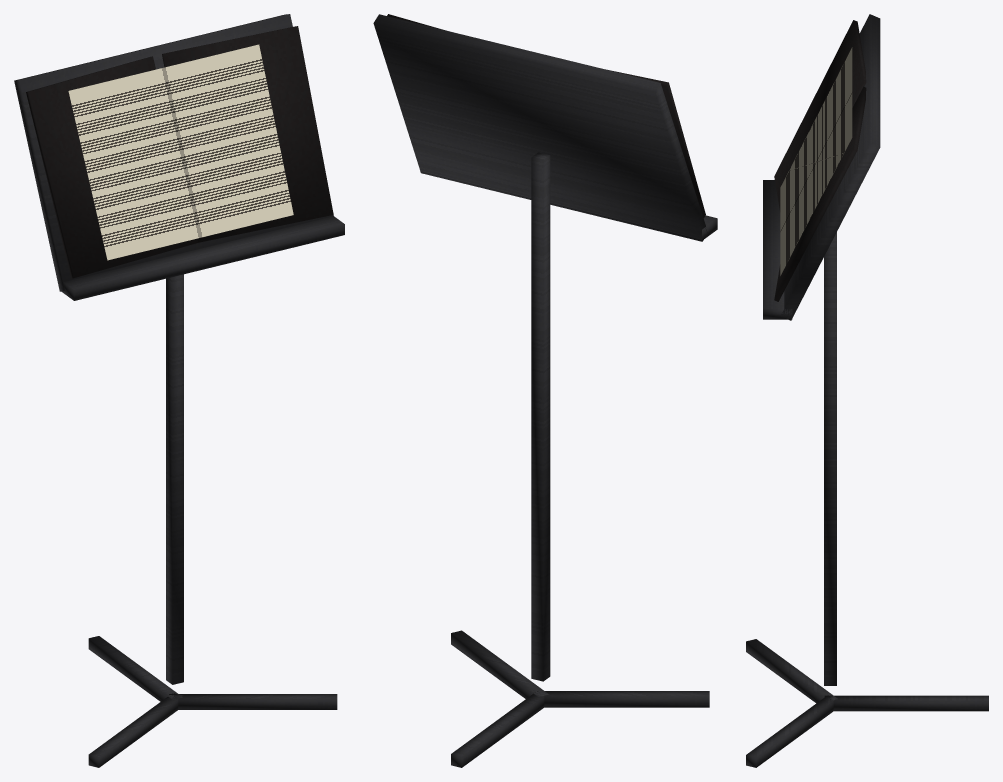
File: music_stand_1.glb
The picture shows the model from 3 angles, left to right: view 1: azimuth 30°, elevation 25°; view 2: azimuth 150°, elevation 25°; view 3: azimuth 270°, elevation 25°; orthographic projection. The views are drawn at different scales.
Visible parts, largest first — view 1: music_stand_1, music_stand_1_music; view 2: music_stand_1; view 3: music_stand_1, music_stand_1_music.
Part boxes in pixels (x1=…): music_stand_1: x1=14, y1=14, x2=344, y2=767; music_stand_1_music: x1=68, y1=44, x2=293, y2=260; music_stand_1: x1=373, y1=14, x2=717, y2=767; music_stand_1: x1=746, y1=14, x2=988, y2=767; music_stand_1_music: x1=780, y1=47, x2=852, y2=275.
Bounding box in the file's own units: 0.52 × 1.19 × 0.4137.
3 materials, 3 textured.
